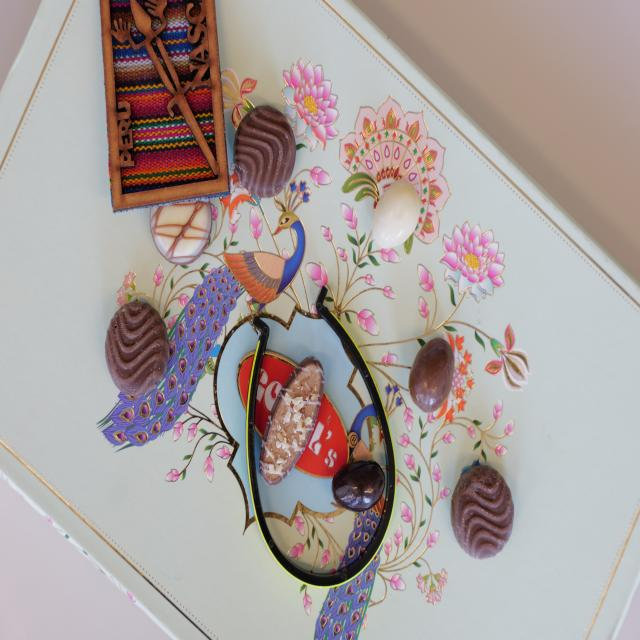Amandina: (258, 358, 327, 482)
Creme_brulee: (149, 198, 212, 260)
Jelly_Black: (332, 456, 385, 511)
Jelly_Milk: (410, 334, 456, 415)
Jelly_White: (372, 179, 421, 251)
Noir_authentique: (106, 299, 172, 396), (452, 462, 517, 560), (233, 104, 297, 200)
